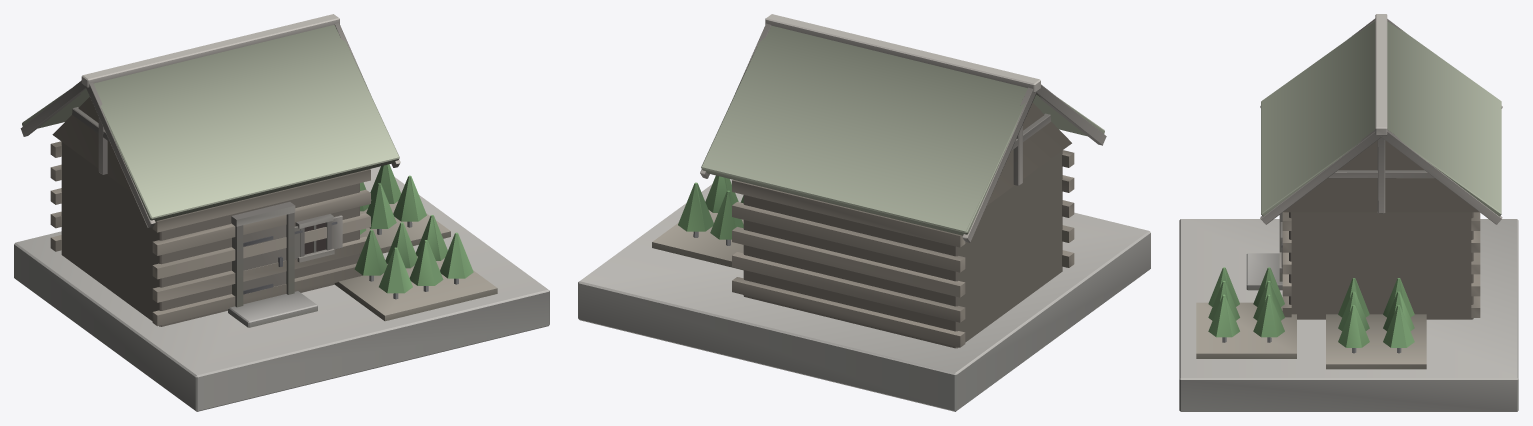
File: forester_l1_lod1.glb
The picture shows the model from 3 angles, left to right: view 1: azimuth 30°, elevation 25°; view 2: azimuth 150°, elevation 25°; view 3: azimuth 270°, elevation 25°; orthographic projection. The views are drawn at different scales.
Visible parts, largest first — view 1: forester_l1_lod1; view 2: forester_l1_lod1; view 3: forester_l1_lod1.
Boxes of the visible parts, x1,y1,x2,y2 form: forester_l1_lod1: (14, 14, 549, 411); forester_l1_lod1: (578, 14, 1150, 411); forester_l1_lod1: (1179, 14, 1518, 411).
Bounding box in the file's own units: 7.66 × 5.25 × 6.8.
